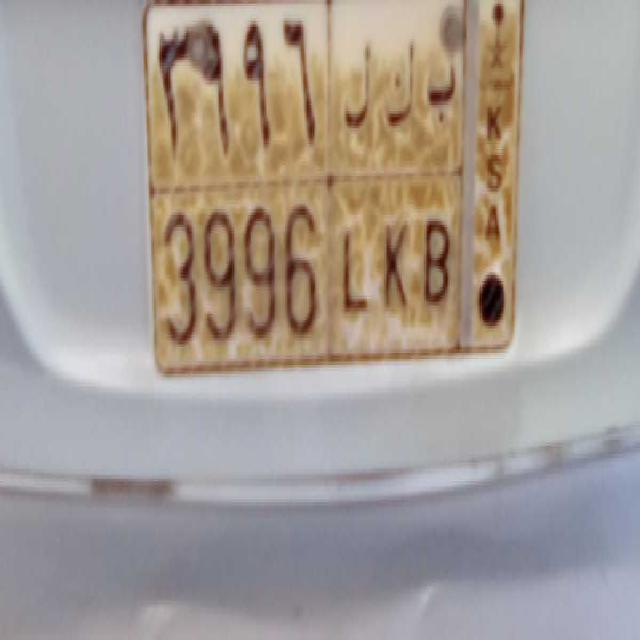license_plate: (153, 177, 459, 364)
